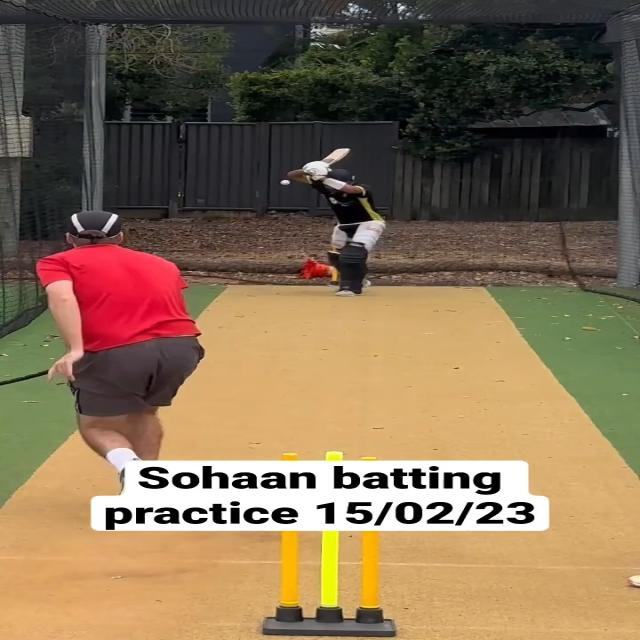ball: (280, 180, 290, 186)
stump: (261, 531, 397, 636)
